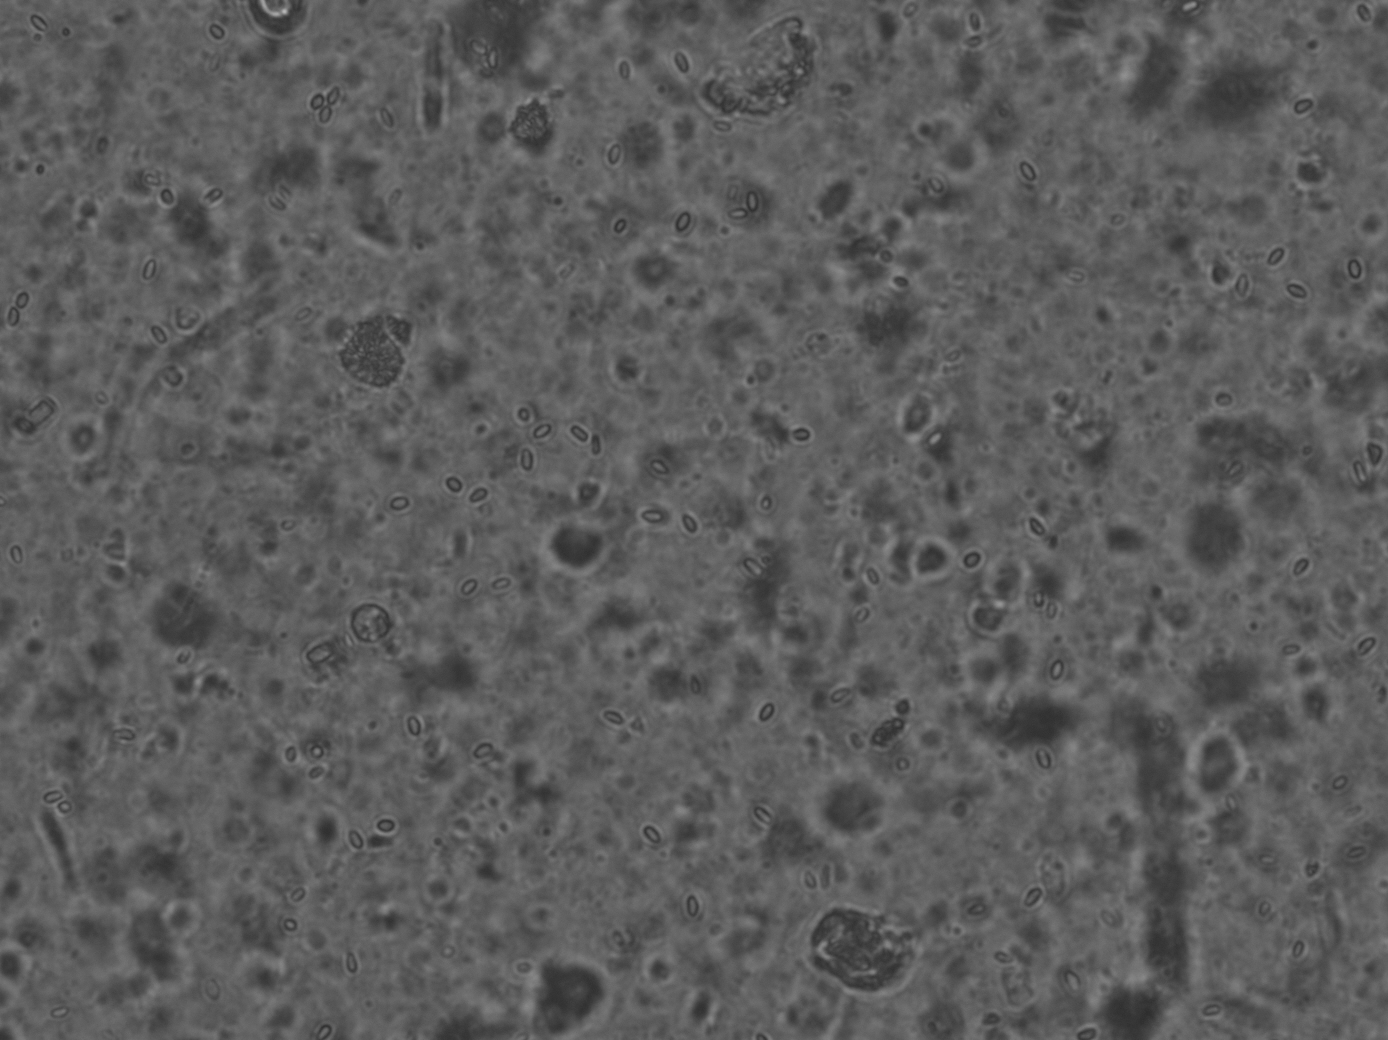spore: (15, 293, 28, 306), (761, 709, 774, 721), (380, 820, 393, 832), (1350, 267, 1362, 279), (614, 222, 627, 233), (285, 919, 297, 930), (321, 110, 332, 122), (537, 424, 549, 435), (214, 25, 225, 37), (1294, 562, 1305, 572), (1300, 562, 1310, 572), (209, 25, 220, 36), (461, 580, 472, 591), (450, 483, 462, 493), (797, 432, 809, 441), (59, 804, 71, 814), (572, 433, 585, 441), (390, 500, 401, 510), (1303, 102, 1313, 113), (9, 310, 20, 320), (1334, 778, 1345, 788), (579, 433, 590, 442), (467, 580, 477, 591), (476, 744, 487, 754), (495, 579, 506, 589), (1292, 285, 1302, 296), (1268, 250, 1278, 261), (687, 900, 697, 911), (675, 223, 687, 232), (832, 693, 844, 701), (311, 746, 323, 755), (311, 770, 323, 779), (285, 753, 297, 761), (51, 1007, 63, 1016), (476, 492, 486, 501), (322, 106, 332, 116), (147, 268, 156, 279), (209, 32, 220, 40), (521, 461, 532, 470), (347, 840, 358, 849), (1051, 667, 1061, 676), (972, 554, 981, 565), (1276, 250, 1284, 261), (346, 964, 357, 972), (311, 102, 323, 109), (407, 728, 419, 735), (686, 909, 696, 918), (762, 501, 772, 510), (1024, 893, 1034, 901), (400, 501, 408, 511), (607, 711, 617, 720), (747, 200, 757, 209), (963, 560, 973, 569), (695, 909, 704, 918), (1294, 103, 1303, 113), (607, 156, 618, 164), (467, 588, 478, 595), (141, 270, 150, 279), (1033, 893, 1042, 901), (470, 494, 479, 501), (354, 841, 364, 849), (10, 555, 20, 563), (642, 512, 652, 520), (443, 484, 453, 492), (738, 209, 747, 216), (536, 434, 548, 439), (44, 797, 54, 804), (1266, 259, 1276, 265), (216, 34, 226, 40), (55, 797, 62, 805), (461, 590, 470, 596), (17, 304, 26, 309), (532, 434, 538, 440)
